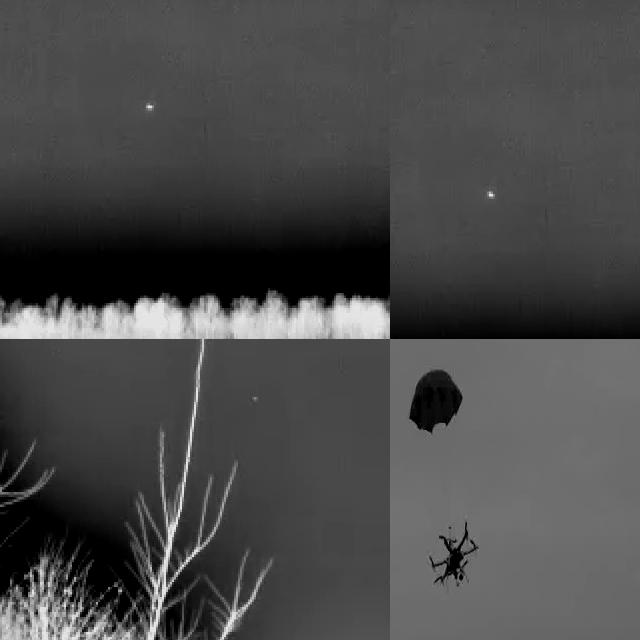0: (245, 390, 271, 412)
1: (477, 179, 513, 219), (141, 97, 167, 124)
drone: (424, 516, 480, 595)
